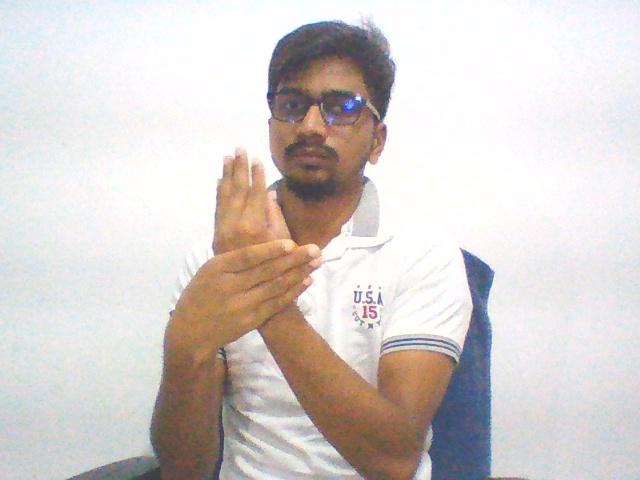tree: (166, 136, 331, 357)
